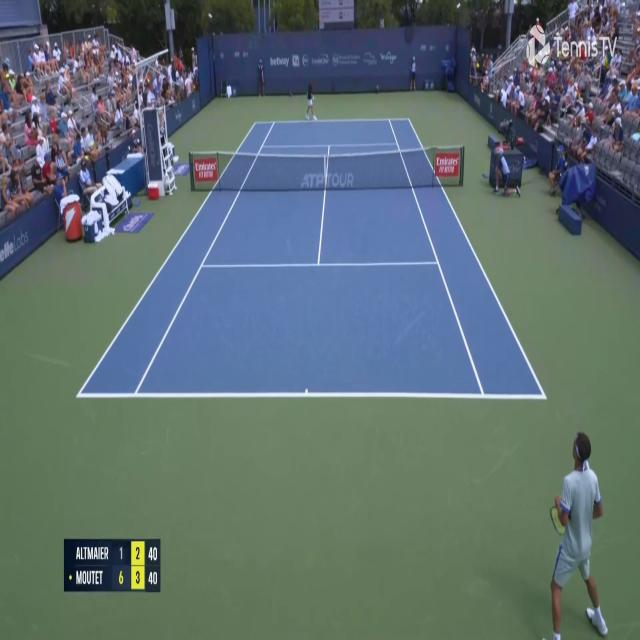tennis-player: (545, 426, 612, 638), (304, 78, 319, 123)
